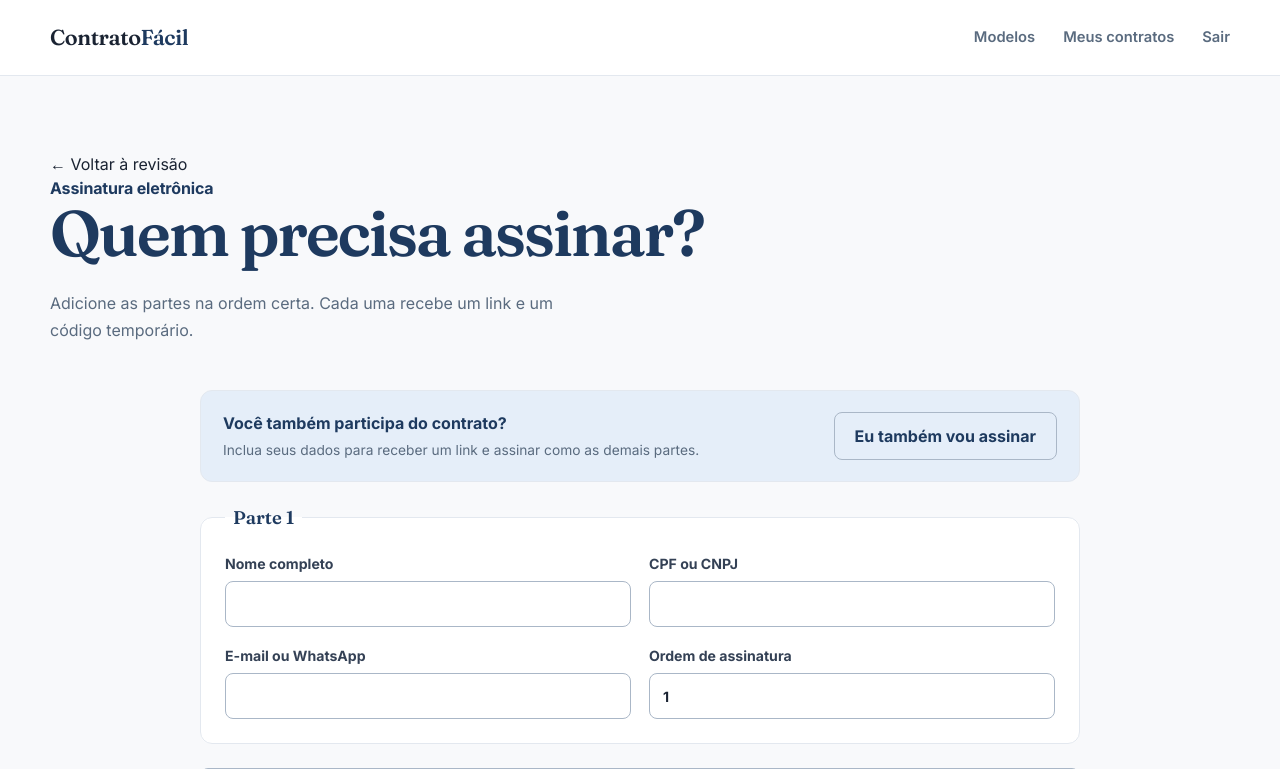
inclusão do criador na assinatura › preenche a parte vazia com os dados da conta
Click the button "Eu também vou assinar" at (945, 436), box x1=834 y1=412 x2=1057 y2=460
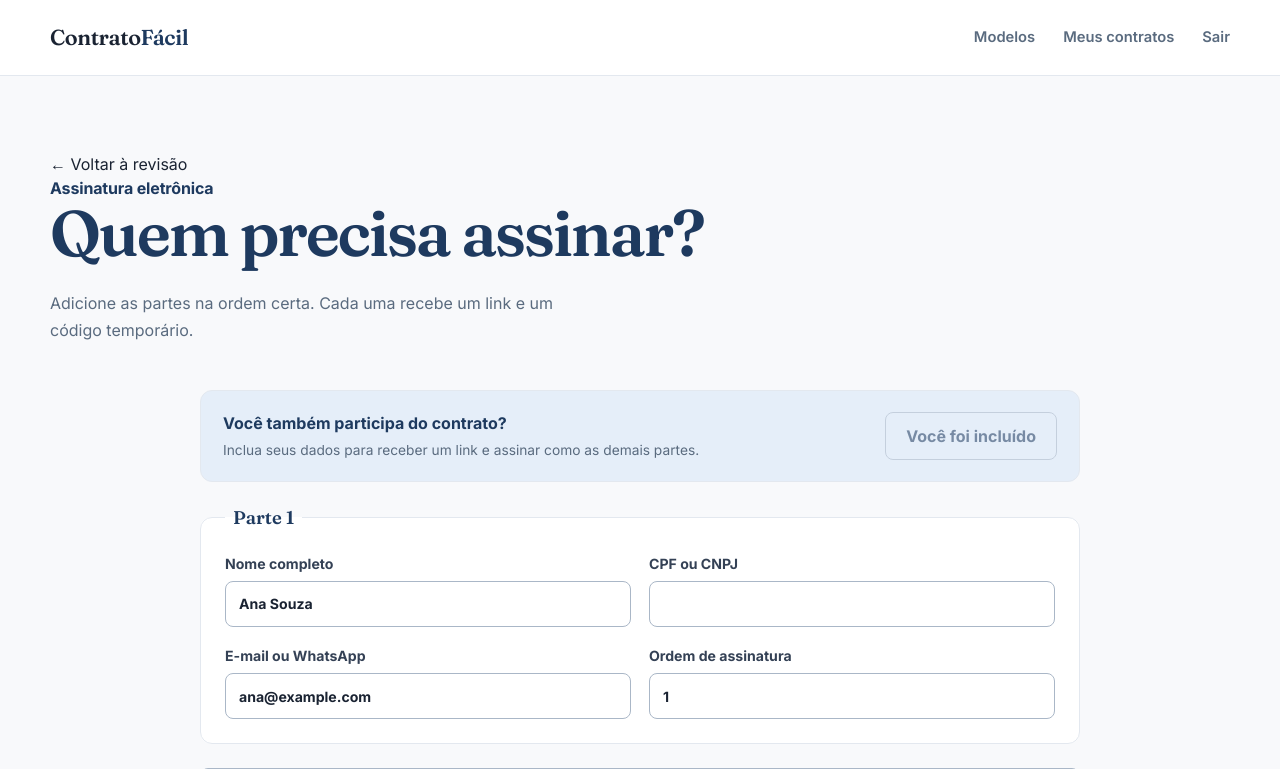
expect the field labelled "Nome completo" holds "Ana Souza": met, box x1=225 y1=581 x2=631 y2=627
expect the field labelled "E-mail ou WhatsApp" holds "ana@example.com": met, box x1=225 y1=673 x2=631 y2=719
expect the button "Você foi incluído" is disabled: met, box x1=885 y1=412 x2=1057 y2=460
